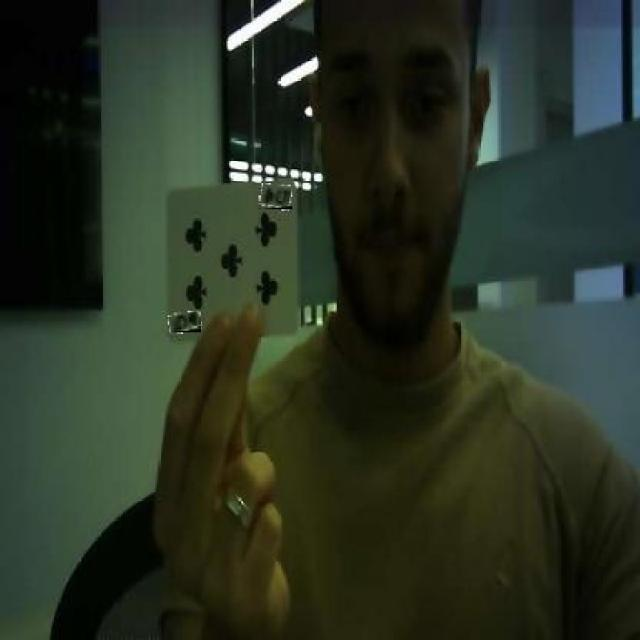5C: (258, 185, 292, 209), (169, 312, 200, 332)
